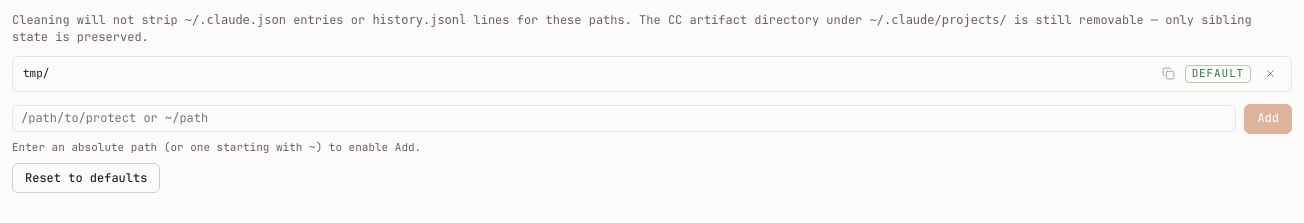
Test: ProtectedPathsPane › removes a row when the trailing button is clicked
Expected: the text "/tmp" is shown, [23,66,49,80]
Click the button named "Remove /tmp" at (1270,74), box [1259,63,1281,85]
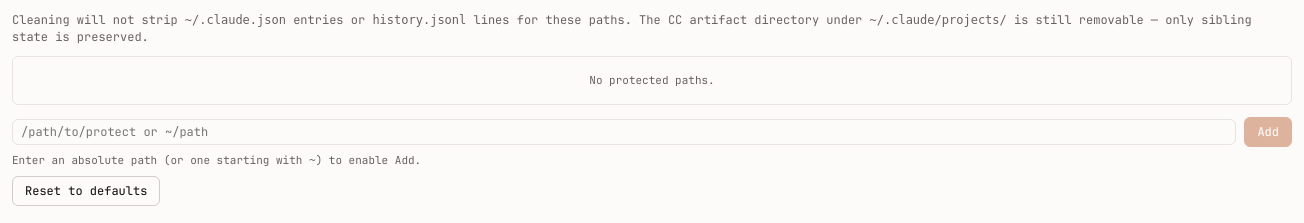
Now the text "/tmp" is gone
